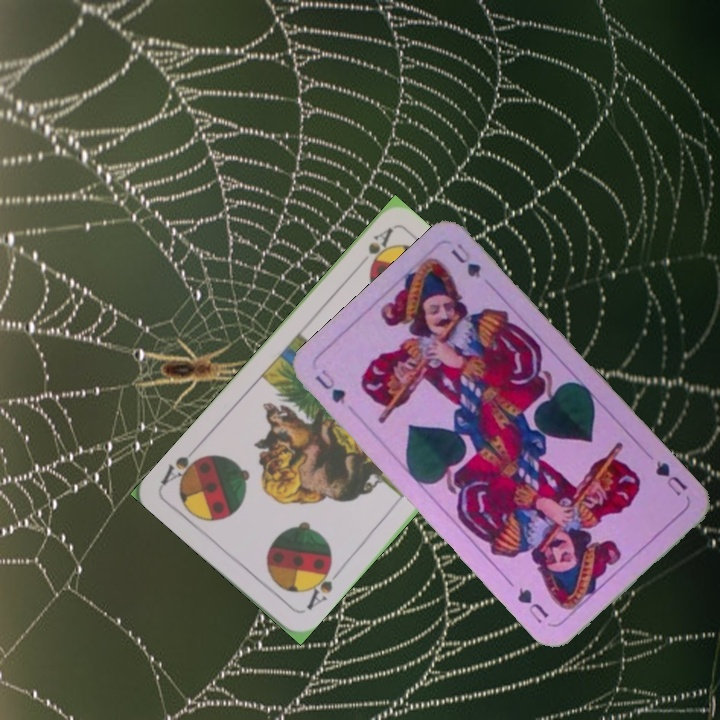GU: (648, 456, 691, 499), (310, 365, 348, 407)
SA: (301, 559, 344, 613), (363, 224, 396, 275)
